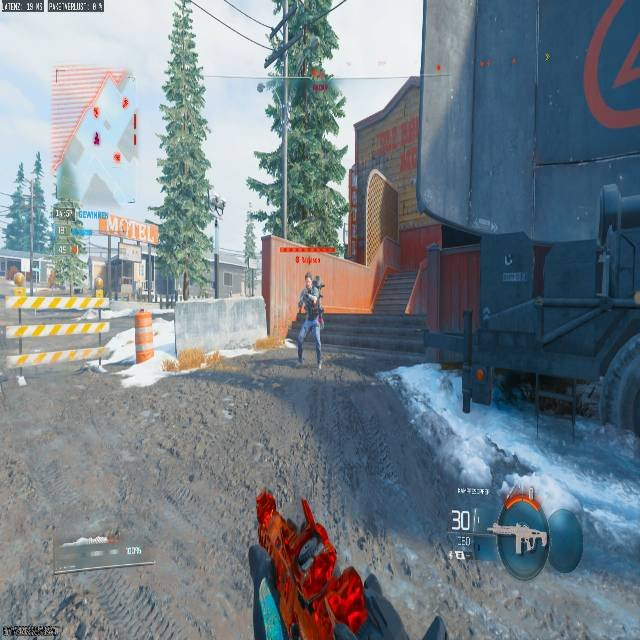head: (303, 268, 322, 291), (308, 273, 319, 288), (307, 264, 318, 279), (303, 272, 312, 286)
player: (293, 273, 325, 367)
